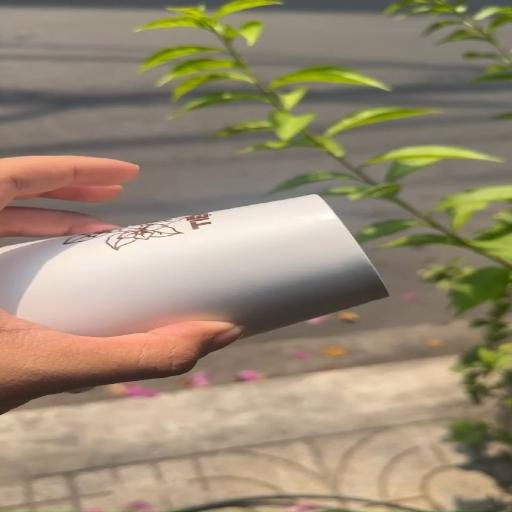Ly_giay: (0, 194, 387, 336)
